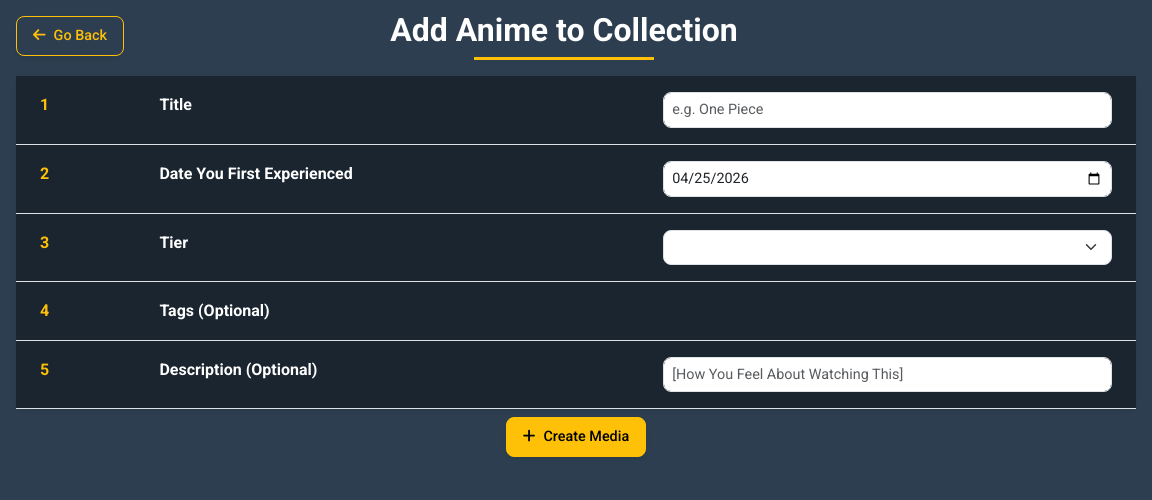
Test: CreateMedia › shows "Title is required!" when submitting with empty title
Step 1. Click the button "Create Media" → (576, 437), box x1=506 y1=417 x2=646 y2=457
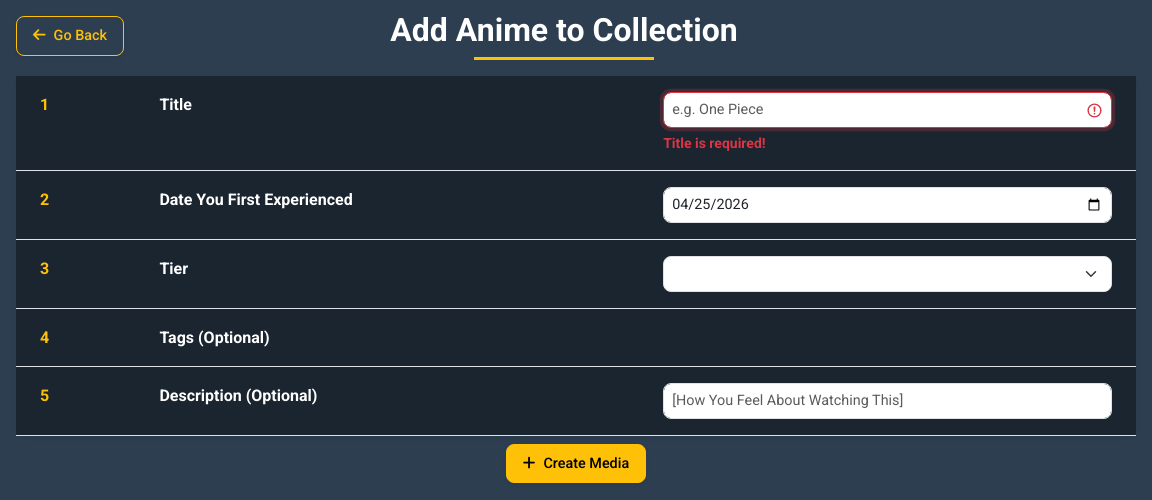
Expected: the text "Title is required!" is shown, x1=663 y1=135 x2=766 y2=151
